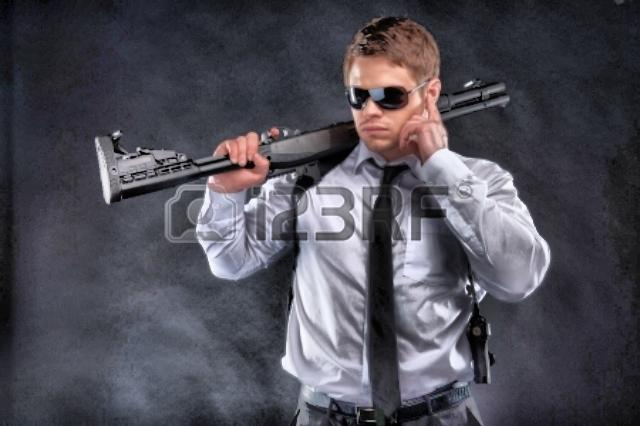pistol: (453, 300, 505, 390)
